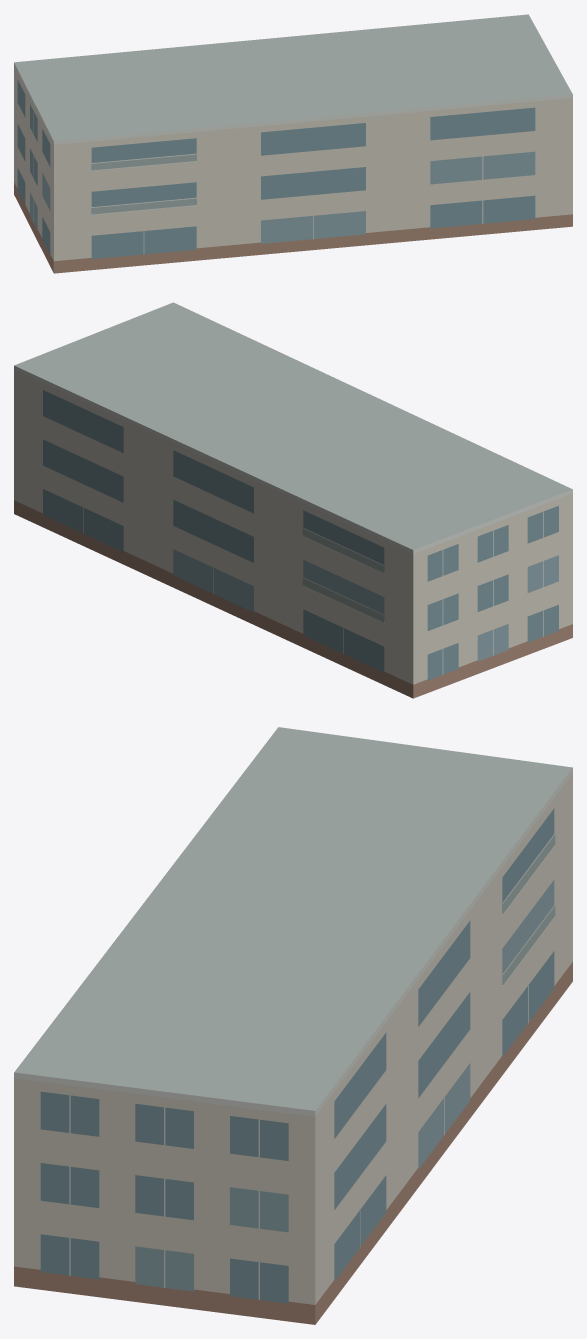
File: survey-upis-32628217.glb
3 renders of one model, top to bottom at view 1: azimuth 30°, elevation 25°; view 2: azimuth 150°, elevation 25°; view 3: azimuth 270°, elevation 25°, orthographic. The views are drawn at different scales.
Parts seen in each view (by area): view 1: survey-upis-32628217.tmp; view 2: survey-upis-32628217.tmp; view 3: survey-upis-32628217.tmp.
Boxes of the visible parts, box(x1,y1,x2,y2) form: survey-upis-32628217.tmp: box(14, 14, 572, 273); survey-upis-32628217.tmp: box(14, 302, 572, 698); survey-upis-32628217.tmp: box(14, 727, 572, 1324).
Bounding box in the file's own units: 35.23 × 9.15 × 21.67.
